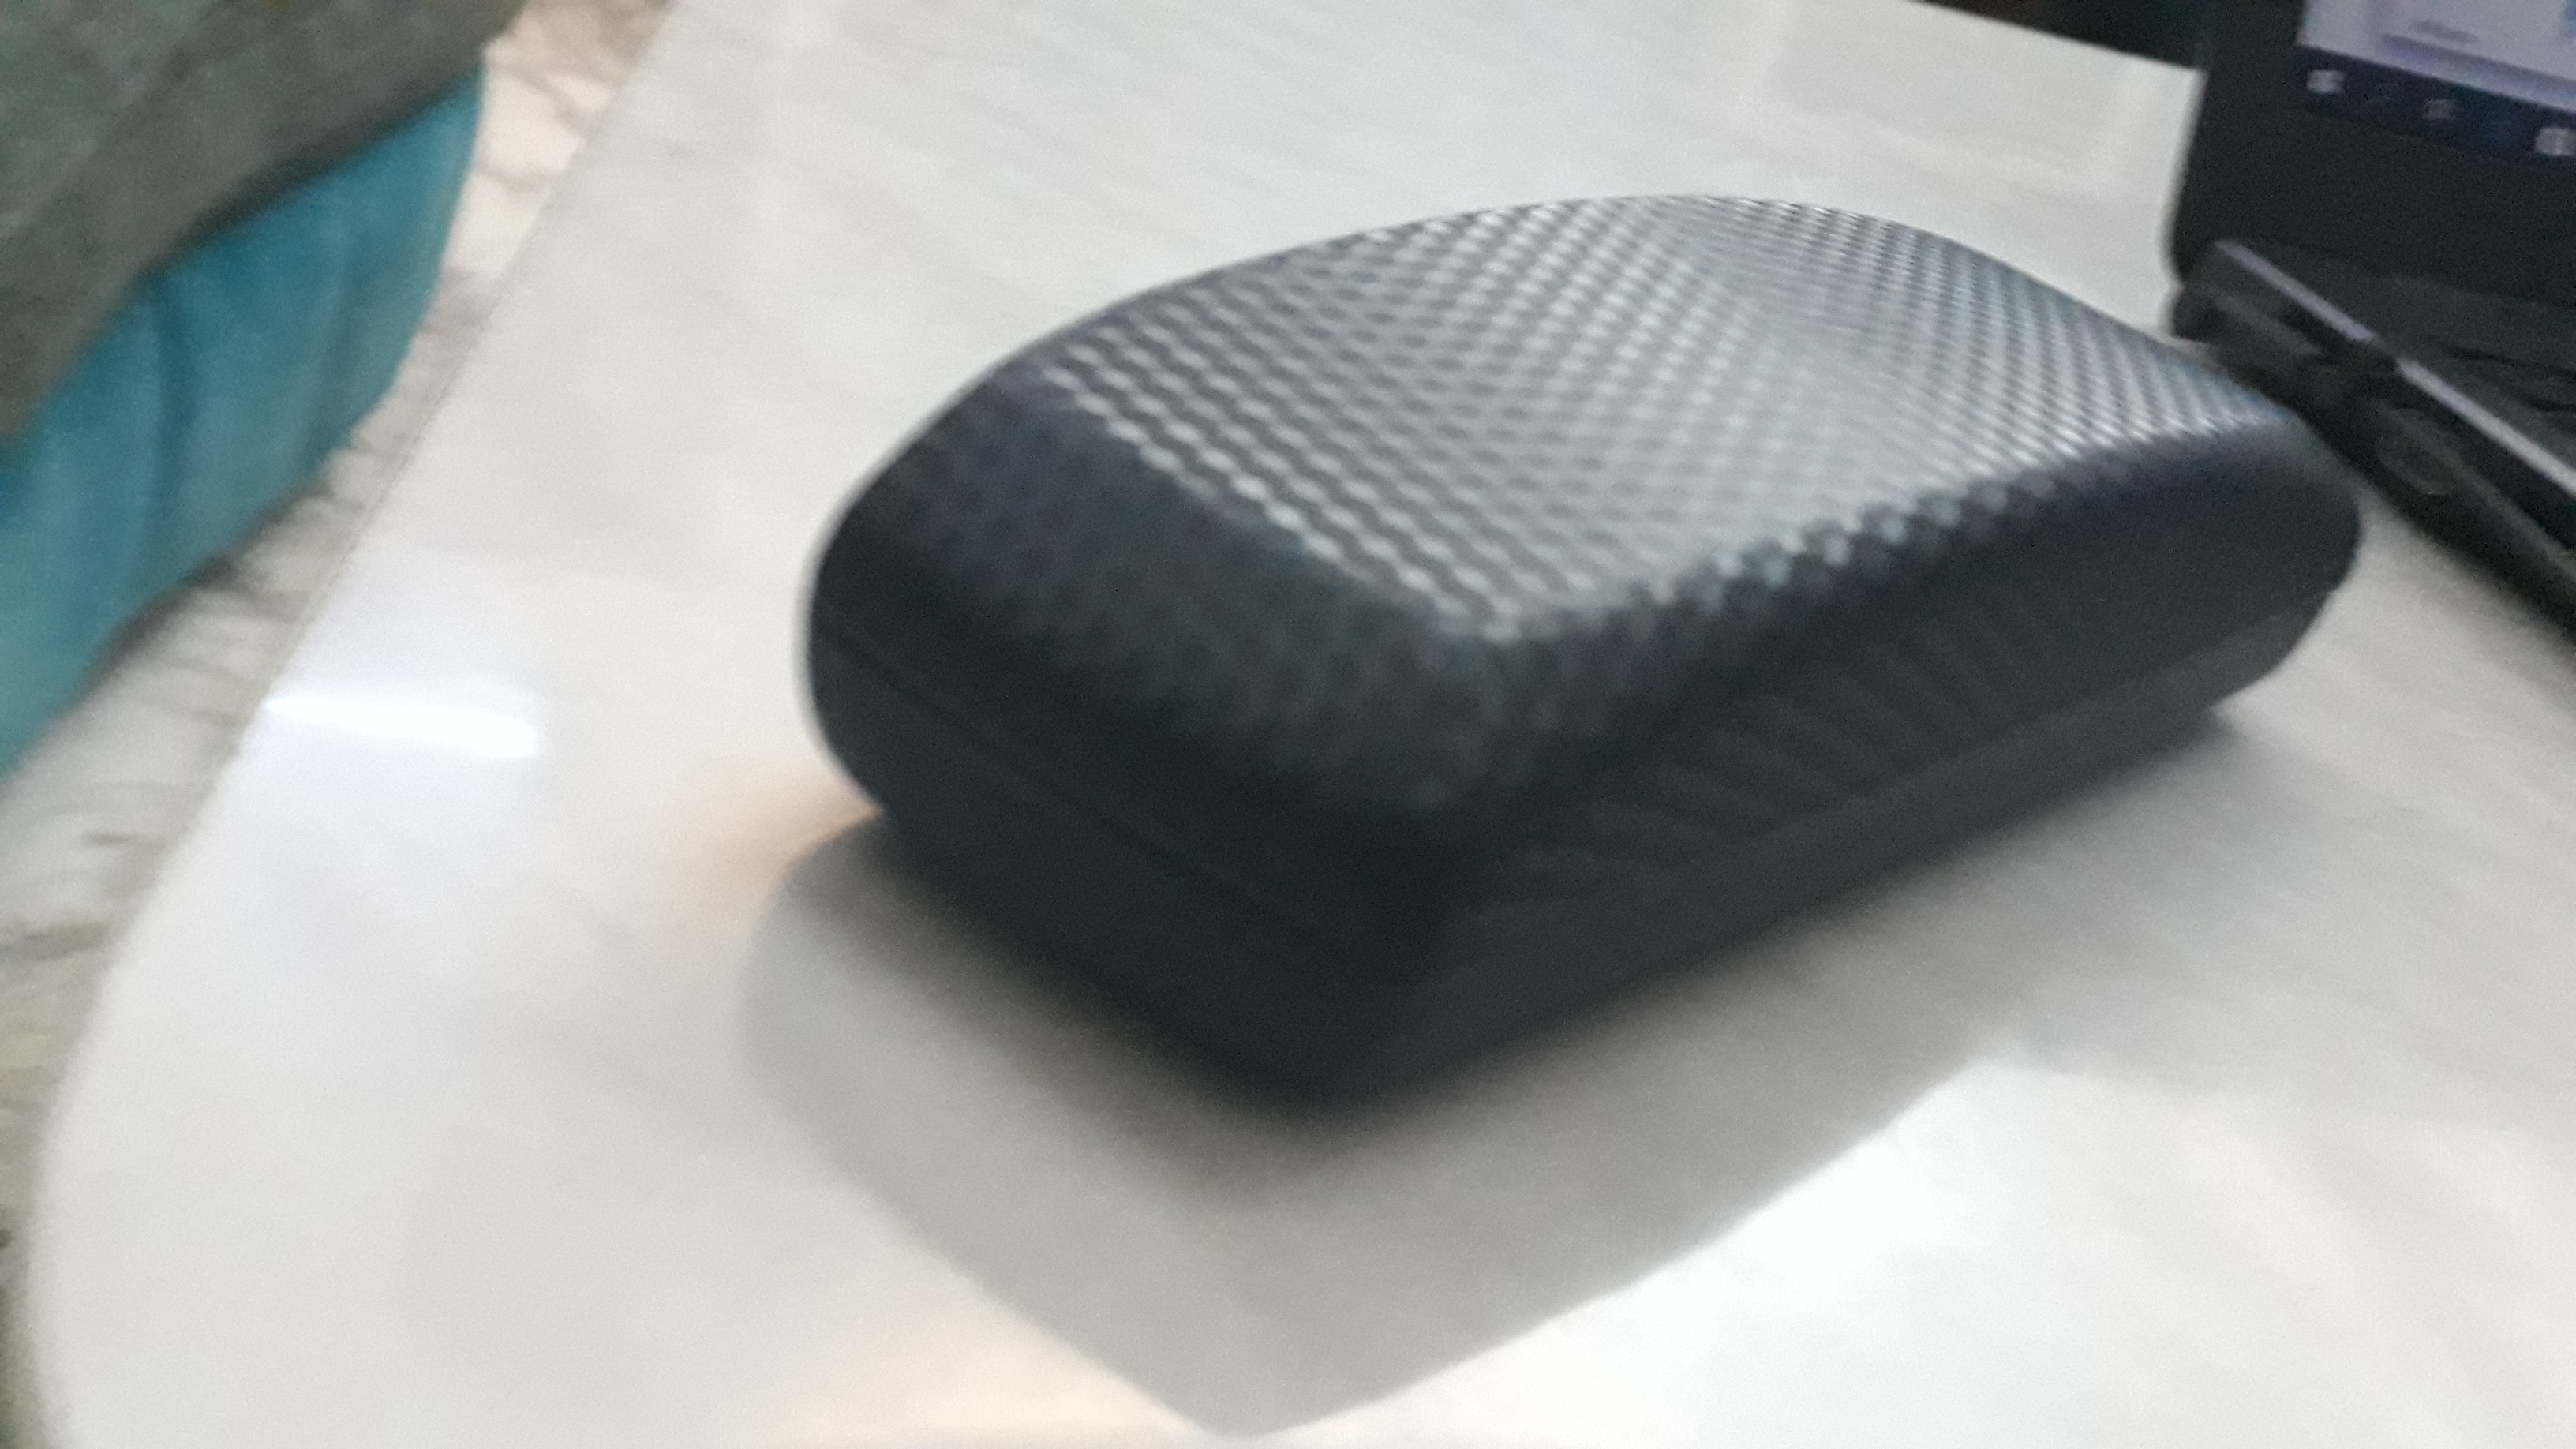nadar: (747, 159, 2365, 1148)
